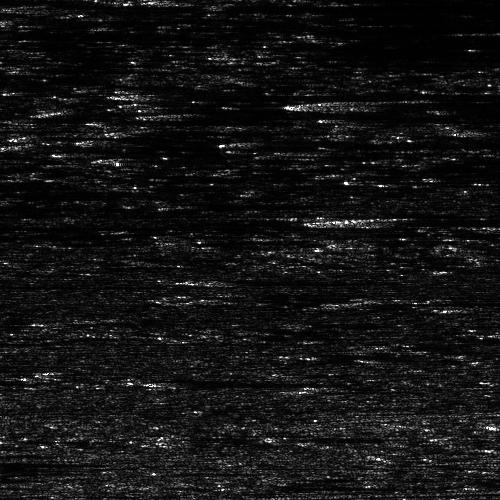rock: (292, 214, 427, 229), (265, 99, 422, 110), (307, 297, 400, 308), (444, 330, 500, 345), (0, 1, 60, 14), (106, 377, 169, 388), (150, 274, 233, 281), (209, 139, 282, 144), (100, 156, 131, 161), (45, 141, 56, 146)
shadow: (24, 1, 472, 14), (0, 0, 154, 22), (0, 207, 107, 228), (360, 214, 500, 229), (138, 377, 321, 388), (0, 277, 148, 288), (354, 297, 500, 308), (0, 452, 73, 473), (246, 139, 500, 144), (192, 274, 354, 281), (0, 443, 54, 460), (344, 99, 426, 110), (116, 156, 204, 161), (51, 141, 138, 146), (0, 18, 35, 23)
